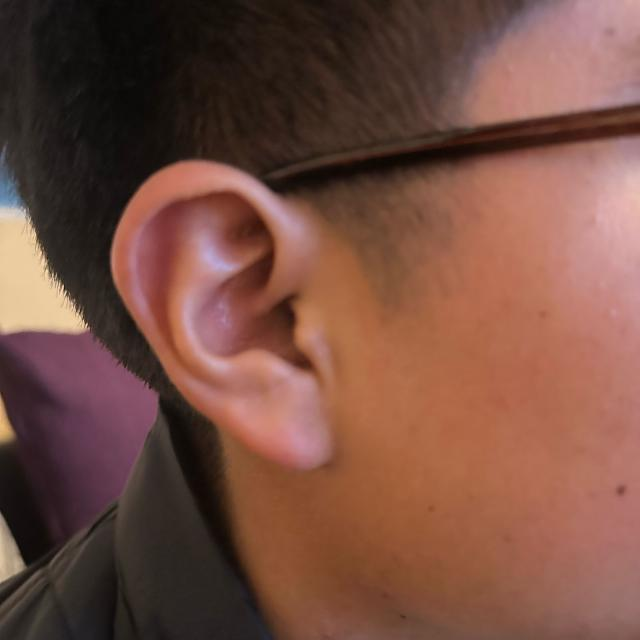ear: (111, 161, 331, 469)
